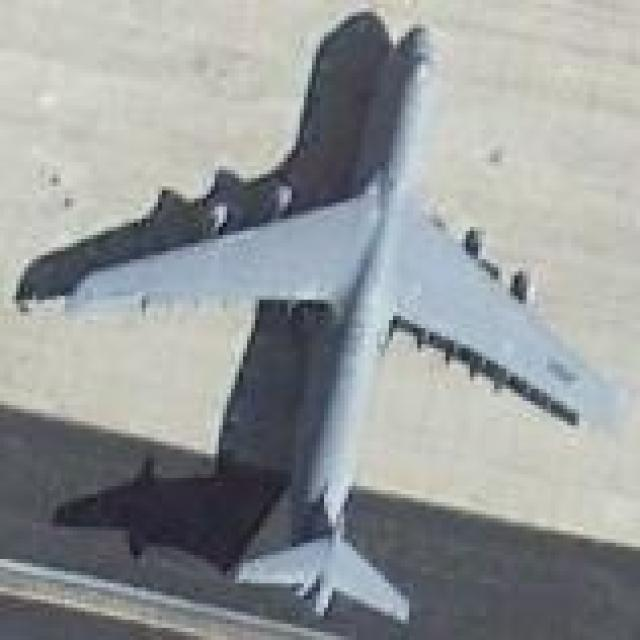C-5_TopDown: (20, 14, 633, 620)
